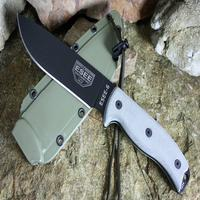knife: (16, 6, 186, 182)
